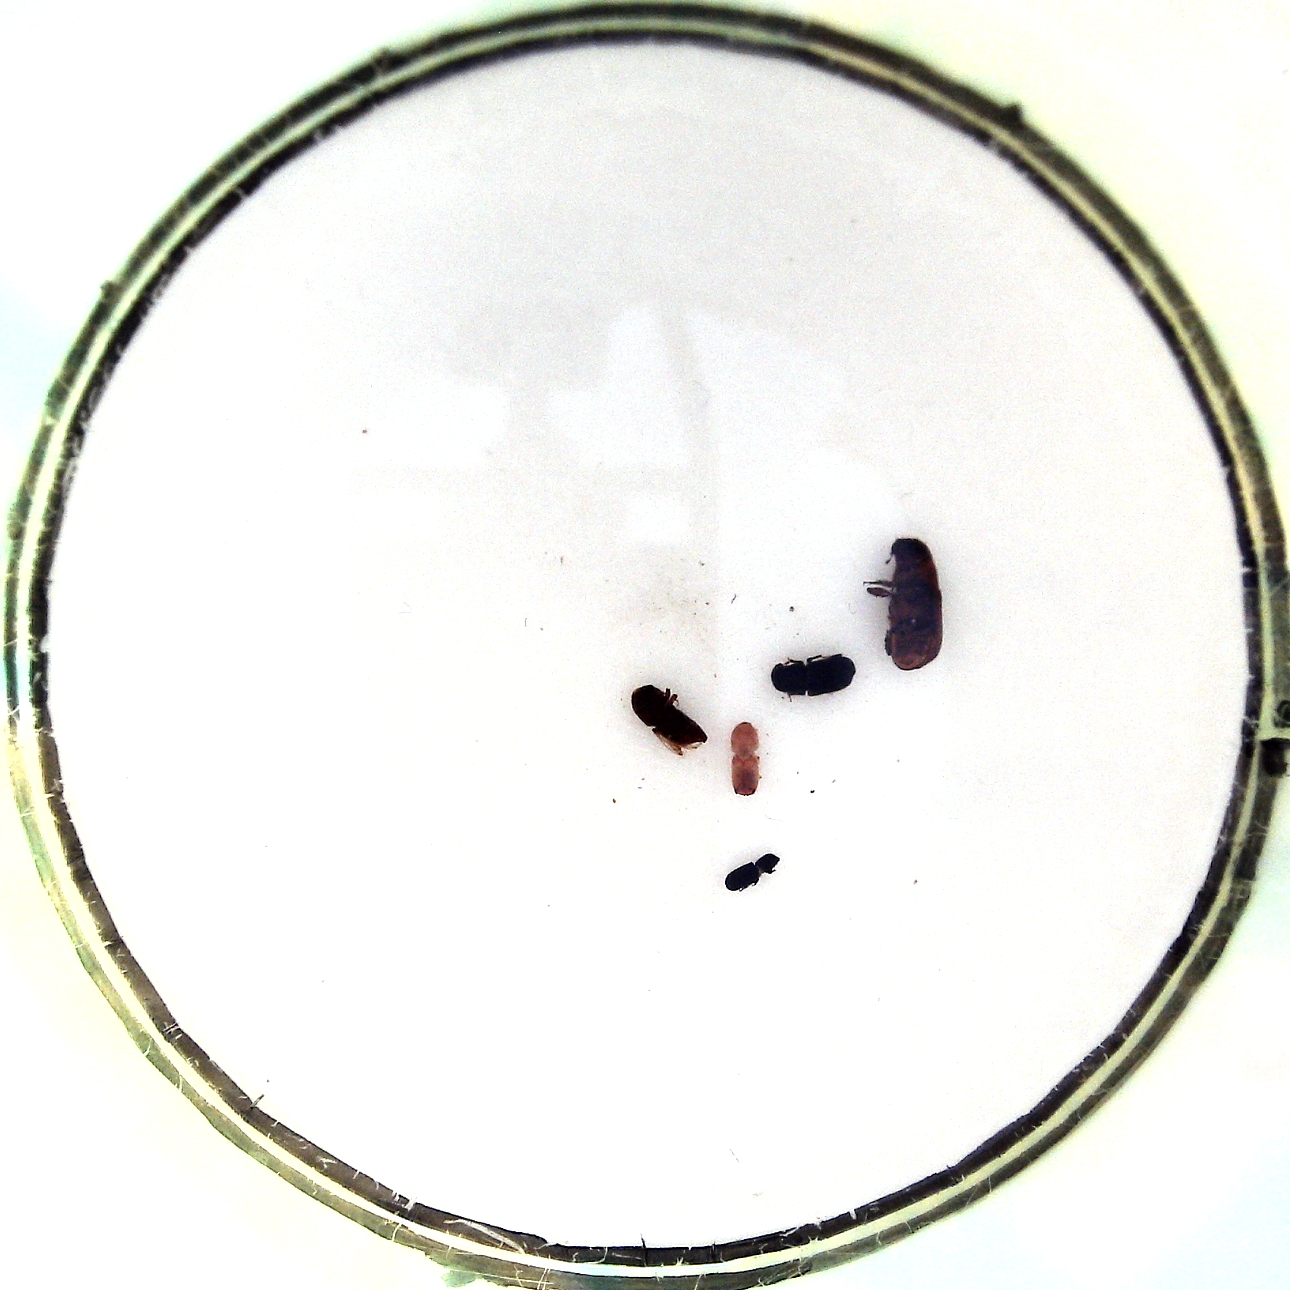Leconte: (867, 535, 947, 673)
Linnaeus: (628, 678, 715, 758)
acuminatus: (723, 717, 767, 804)
armandi: (765, 650, 856, 701)
coleoptera: (721, 848, 787, 899)
